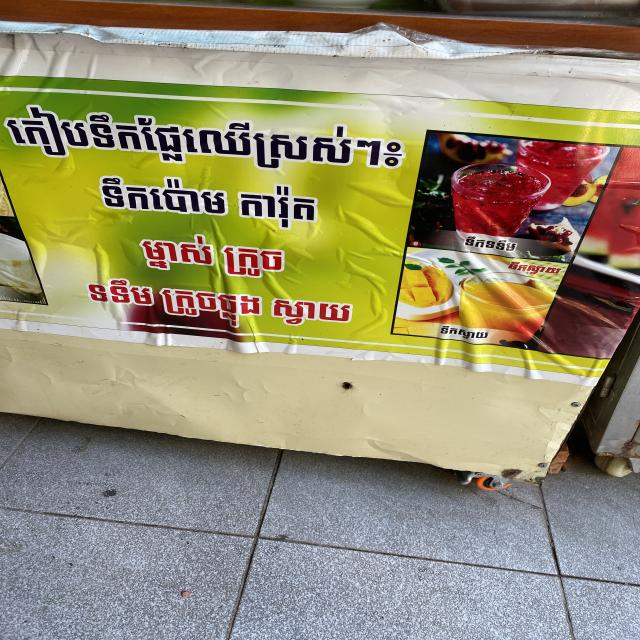1: (94, 173, 328, 237), (137, 226, 314, 284)
2: (77, 273, 360, 339)
Yolov11kh: (1, 102, 408, 185), (503, 258, 565, 281), (460, 233, 524, 255), (437, 323, 500, 344)
